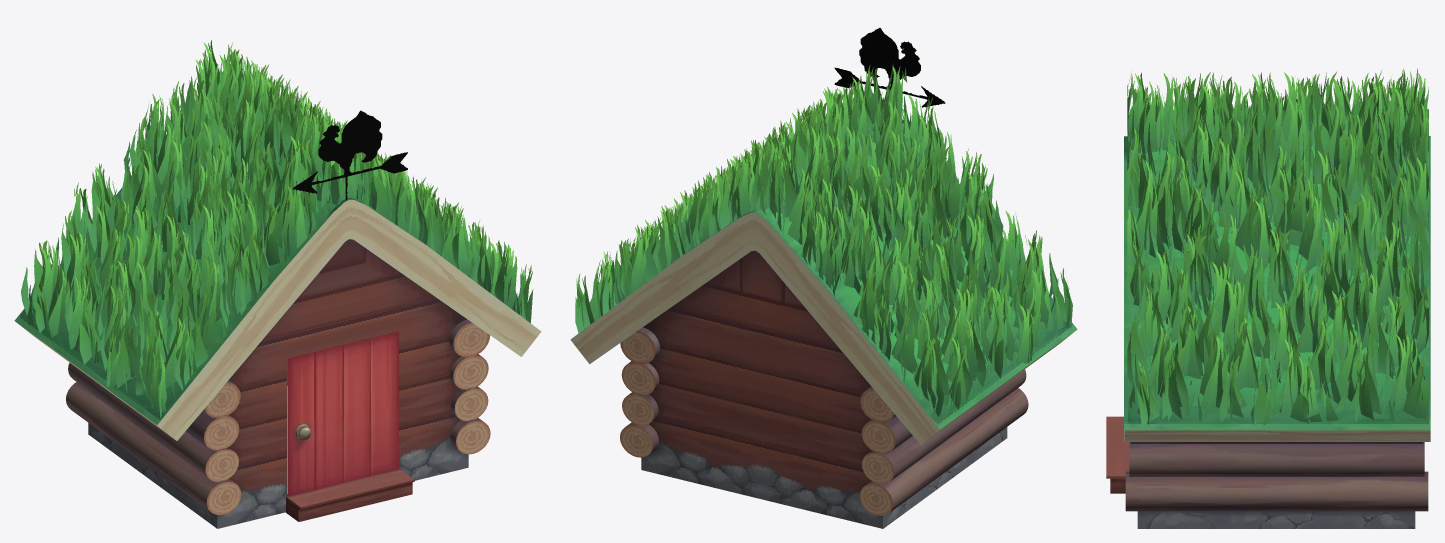
The model's file is cabin.glb.
3 views of the same model, side by side, from view 1: azimuth 30°, elevation 25°; view 2: azimuth 150°, elevation 25°; view 3: azimuth 270°, elevation 25° (orthographic). The views are drawn at different scales.
Parts seen in each view (by area): view 1: cabin, cabin_a; view 2: cabin, cabin_a; view 3: cabin_a, cabin.
Boxes of the visible parts, x1=… form: cabin: x1=14, y1=153, x2=541, y2=528; cabin_a: x1=21, y1=40, x2=533, y2=417; cabin: x1=570, y1=119, x2=1077, y2=528; cabin_a: x1=575, y1=28, x2=1072, y2=417; cabin_a: x1=1127, y1=68, x2=1428, y2=425; cabin: x1=1106, y1=136, x2=1430, y2=528.
Size of the model in its own units: 4.55 by 4.42 by 3.09.
2 materials, 2 textured.
